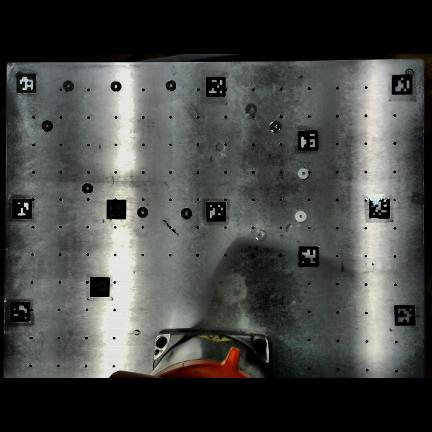marker: (394, 304, 415, 325), (12, 198, 32, 219), (370, 198, 390, 218), (299, 246, 319, 266), (298, 130, 318, 150), (206, 75, 226, 95), (10, 300, 29, 321), (207, 201, 226, 222), (392, 75, 412, 94), (17, 73, 36, 93), (107, 200, 126, 219), (90, 278, 109, 296)
washer: (245, 104, 255, 116), (165, 80, 175, 91), (62, 81, 73, 91), (255, 231, 265, 241), (295, 212, 305, 222), (41, 121, 51, 131), (180, 208, 190, 218), (81, 184, 92, 193), (298, 169, 307, 179), (270, 122, 279, 132), (110, 82, 120, 91), (137, 208, 146, 218)
